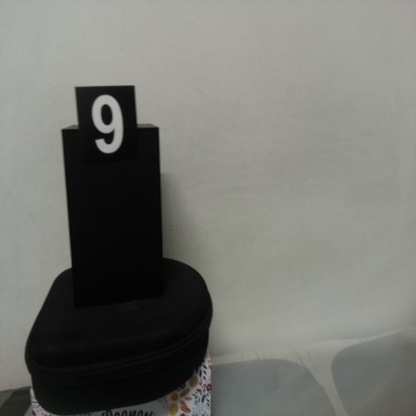id_9: (76, 87, 137, 174)
